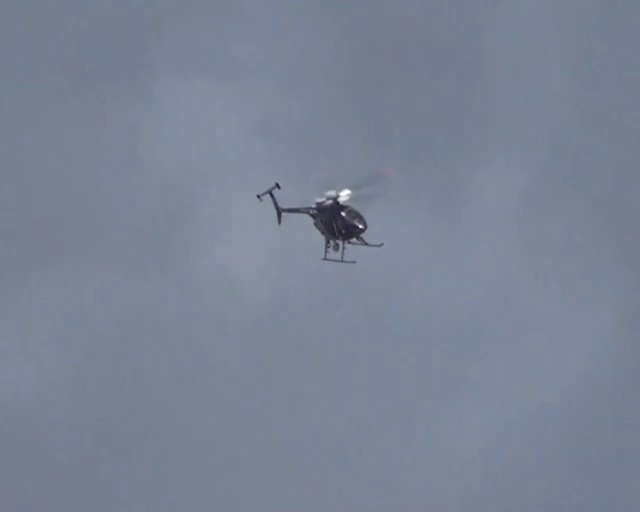HELICOPTER: (255, 174, 388, 263)
